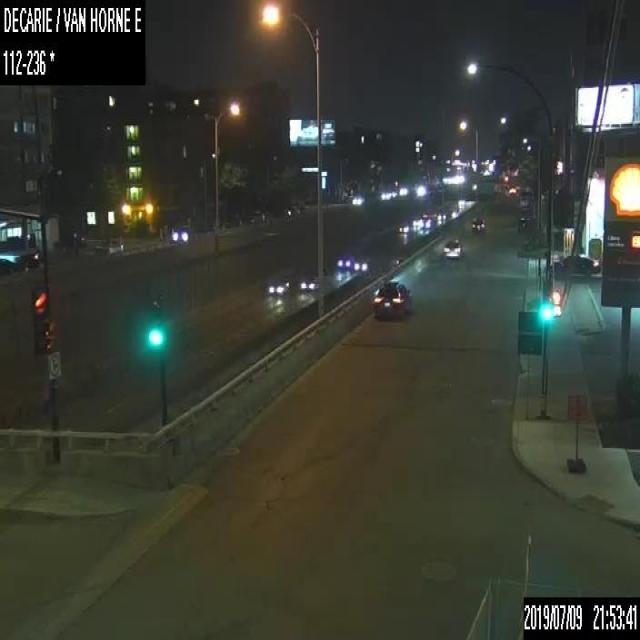construction: (466, 576, 614, 639), (566, 390, 588, 470)
vehicle: (372, 276, 408, 318), (546, 254, 601, 277), (514, 186, 537, 234), (398, 212, 436, 232), (93, 239, 123, 254), (442, 238, 461, 258), (267, 278, 290, 294), (298, 275, 320, 291), (336, 252, 355, 269), (353, 255, 370, 272), (170, 228, 188, 243), (470, 215, 485, 232), (419, 213, 435, 228), (351, 194, 364, 204)
